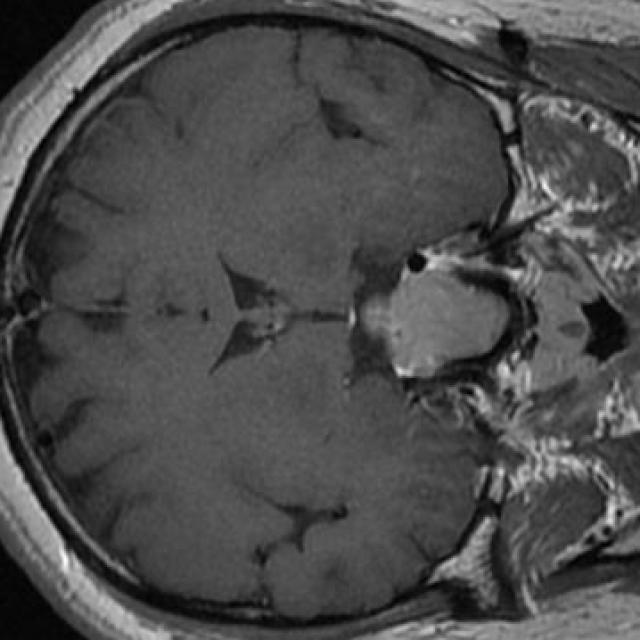pituitary: (362, 271, 510, 378)
